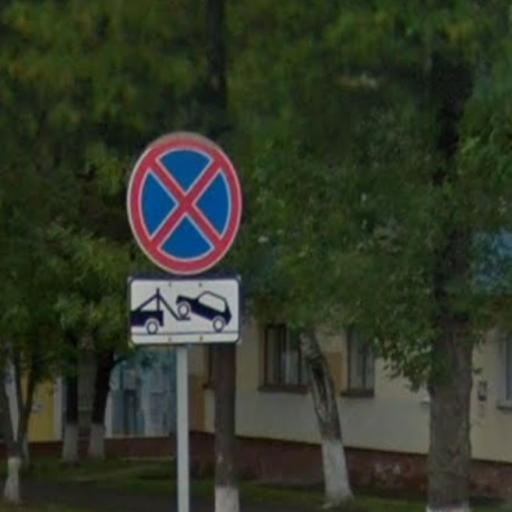traffic_sign: (127, 131, 244, 279)
